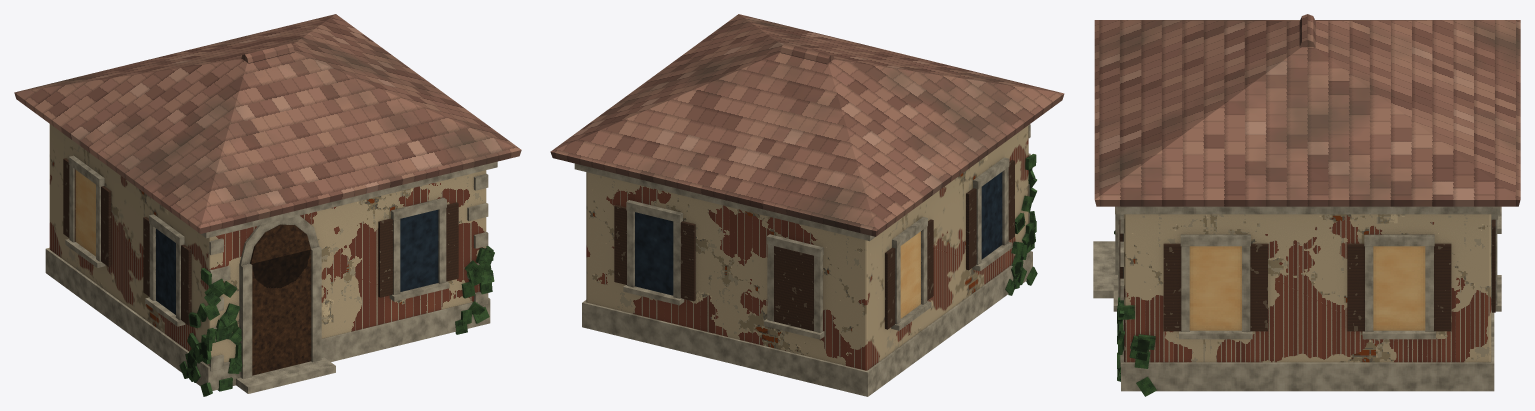
Rendered from siracusa_house_low.glb.
3 renders of one model, left to right at view 1: azimuth 30°, elevation 25°; view 2: azimuth 150°, elevation 25°; view 3: azimuth 270°, elevation 25°, orthographic. The views are drawn at different scales.
Visible parts, largest first — view 1: siracusa_house_low; view 2: siracusa_house_low; view 3: siracusa_house_low.
Part boxes in pixels (x1,y1,x2,y2): siracusa_house_low: (14, 14, 521, 396); siracusa_house_low: (550, 14, 1064, 396); siracusa_house_low: (1093, 14, 1520, 396).
Bounding box in the file's own units: 6.96 × 5.29 × 6.98.
8 materials, 8 textured.
